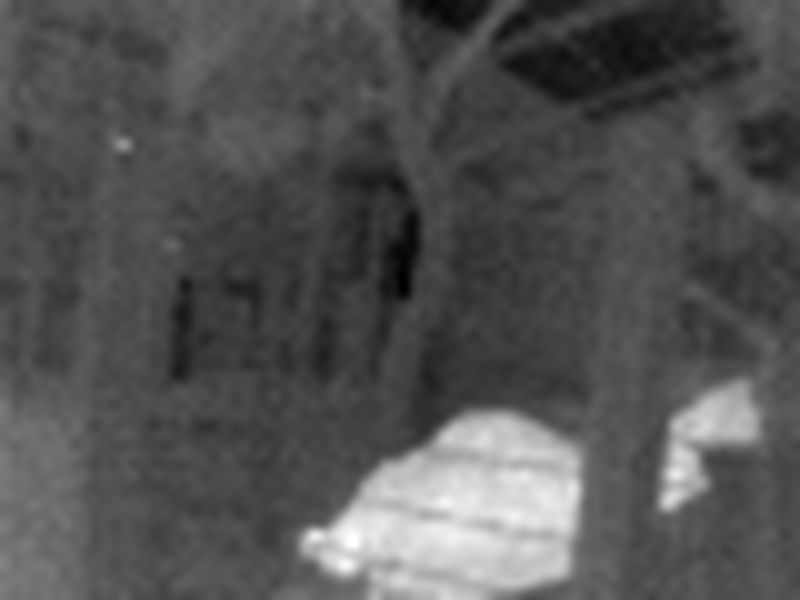elephant: (322, 374, 800, 600)
